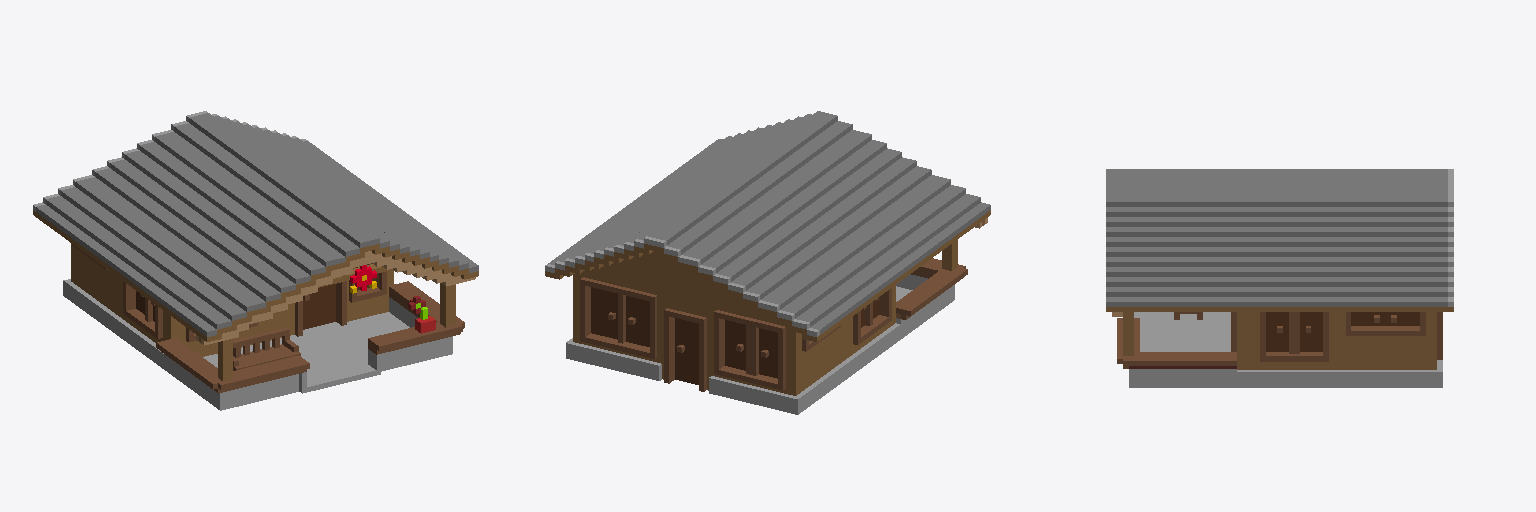
3 views of the same model, side by side, from view 1: azimuth 30°, elevation 25°; view 2: azimuth 150°, elevation 25°; view 3: azimuth 270°, elevation 25° (orthographic).
Visible parts, largest first — view 1: object 1; view 2: object 1; view 3: object 1.
Part boxes in pixels (x1,y1,x2,y2): object 1: (33,111,478,410); object 1: (545,111,990,414); object 1: (1106,169,1453,387).
Bounding box in the file's own units: 5.5 × 2.8 × 6.1.
1 materials, 1 textured.